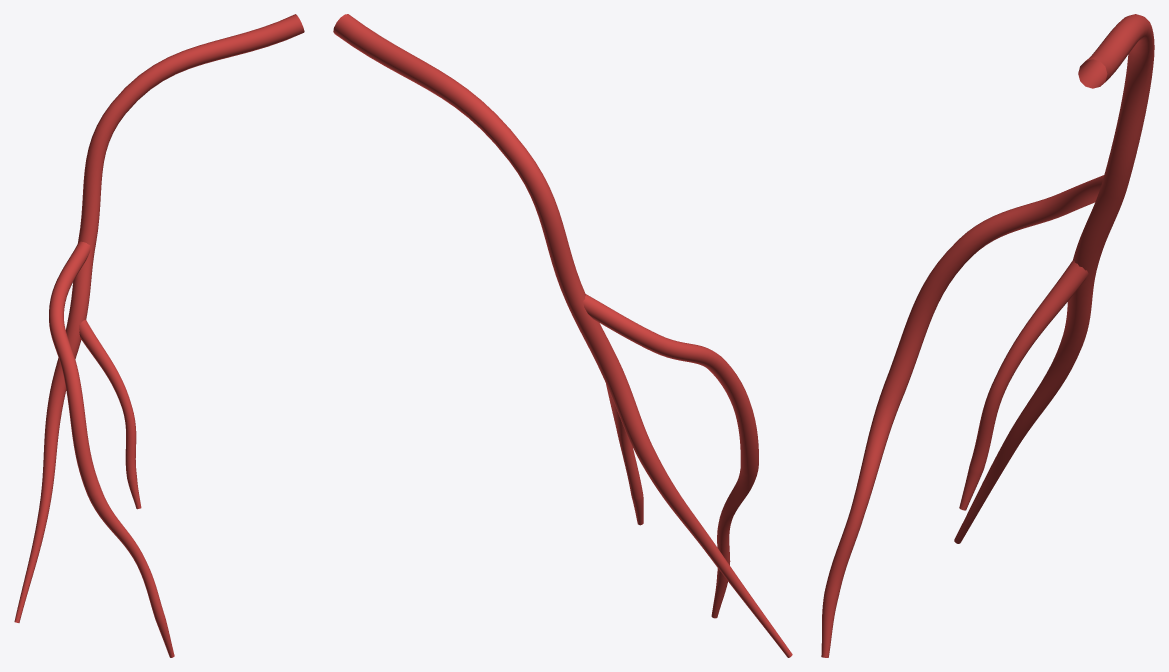
The picture shows the model from 3 angles, left to right: view 1: azimuth 30°, elevation 25°; view 2: azimuth 150°, elevation 25°; view 3: azimuth 270°, elevation 25°; orthographic projection. The views are drawn at different scales.
Parts seen in each view (by area): view 1: 右侧睫状后长动脉; view 2: 右侧睫状后长动脉; view 3: 右侧睫状后长动脉.
Part boxes in pixels (left/top/right/bottom): 右侧睫状后长动脉: left=14, top=14, right=304, bottom=657; 右侧睫状后长动脉: left=333, top=14, right=792, bottom=657; 右侧睫状后长动脉: left=821, top=14, right=1154, bottom=657.
Size of the model in its own units: 0.0221 by 0.0329 by 0.0132.
